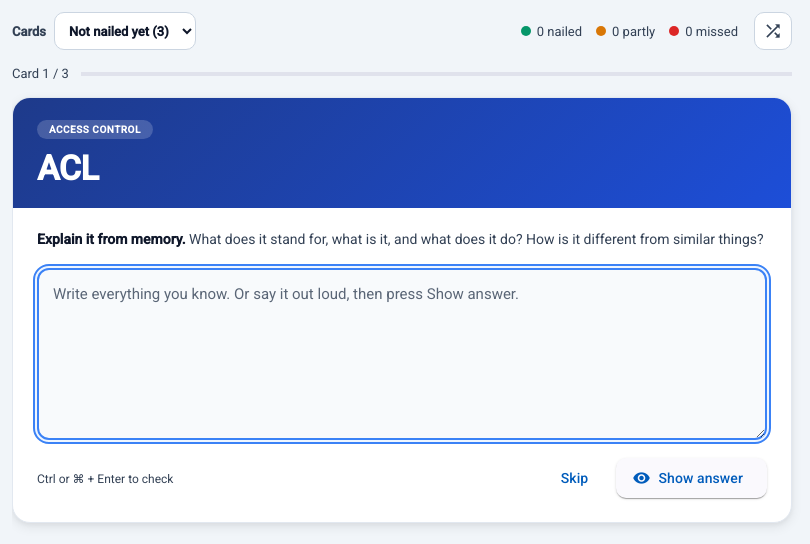
Test: BrainDumpComponent › moves on without recording anything when a card is skipped
The image size is (810, 544).
Click the button "Skip": (574, 478) [542,458,606,498]
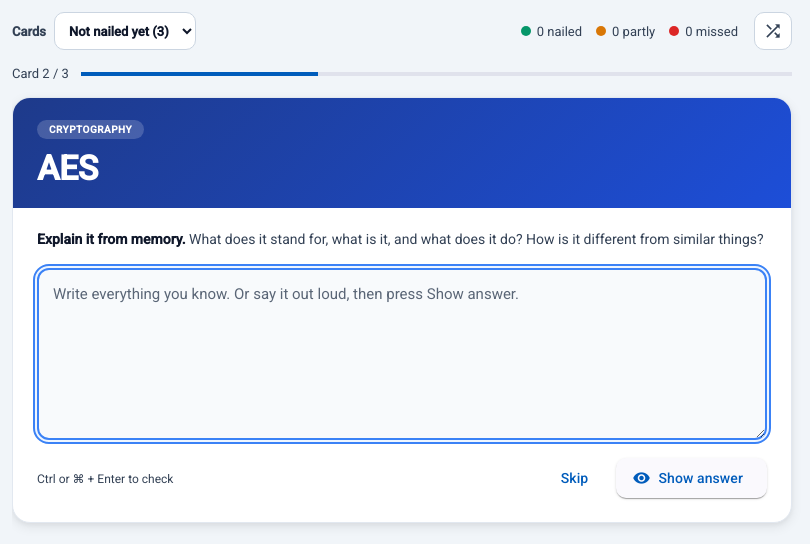
Now the heading with class "bd-name" reads "AES", box [37,148,98,188]
